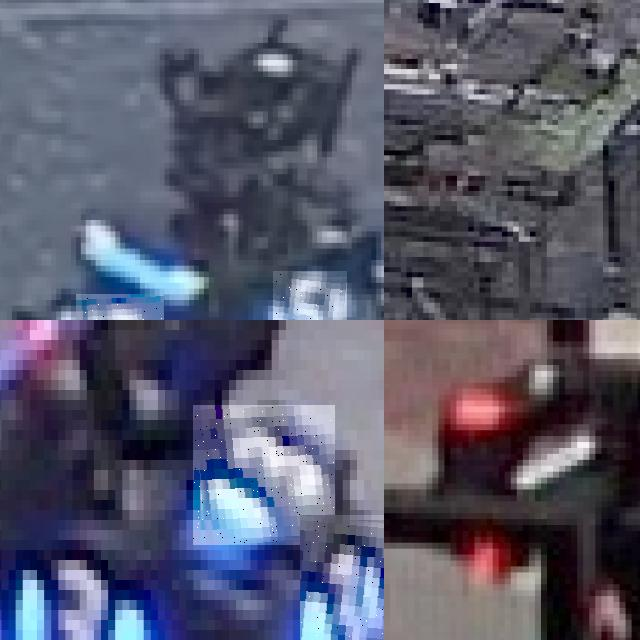B3: (194, 405, 336, 545), (0, 530, 157, 640), (300, 515, 384, 640)
B5: (273, 271, 347, 320), (75, 294, 164, 320)
